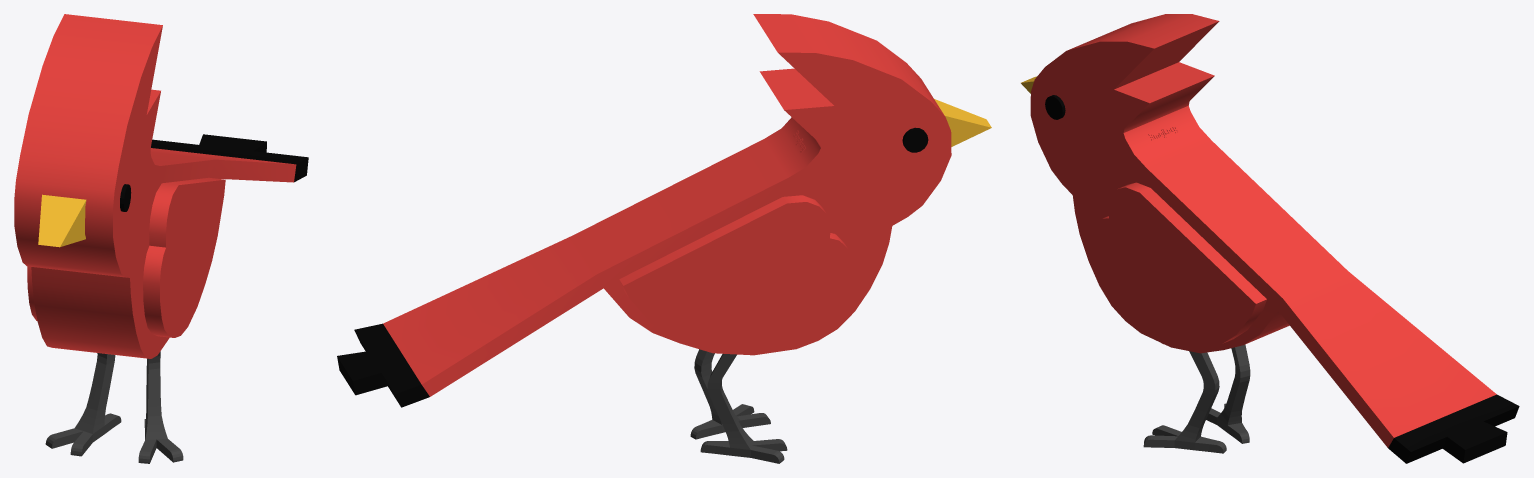
File: bird.glb
3 views of the same model, side by side, from view 1: azimuth 30°, elevation 25°; view 2: azimuth 150°, elevation 25°; view 3: azimuth 270°, elevation 25° (orthographic). The views are drawn at different scales.
Parts seen in each view (by area): view 1: Plane.153; view 2: Plane.153; view 3: Plane.153.
Part boxes in pixels (<box>): Plane.153: <box>14,14,308,463</box>; Plane.153: <box>337,14,991,463</box>; Plane.153: <box>1021,14,1519,463</box>.
Size of the model in its own units: 2.12 by 1.84 by 2.12.
1 material, 1 textured.
